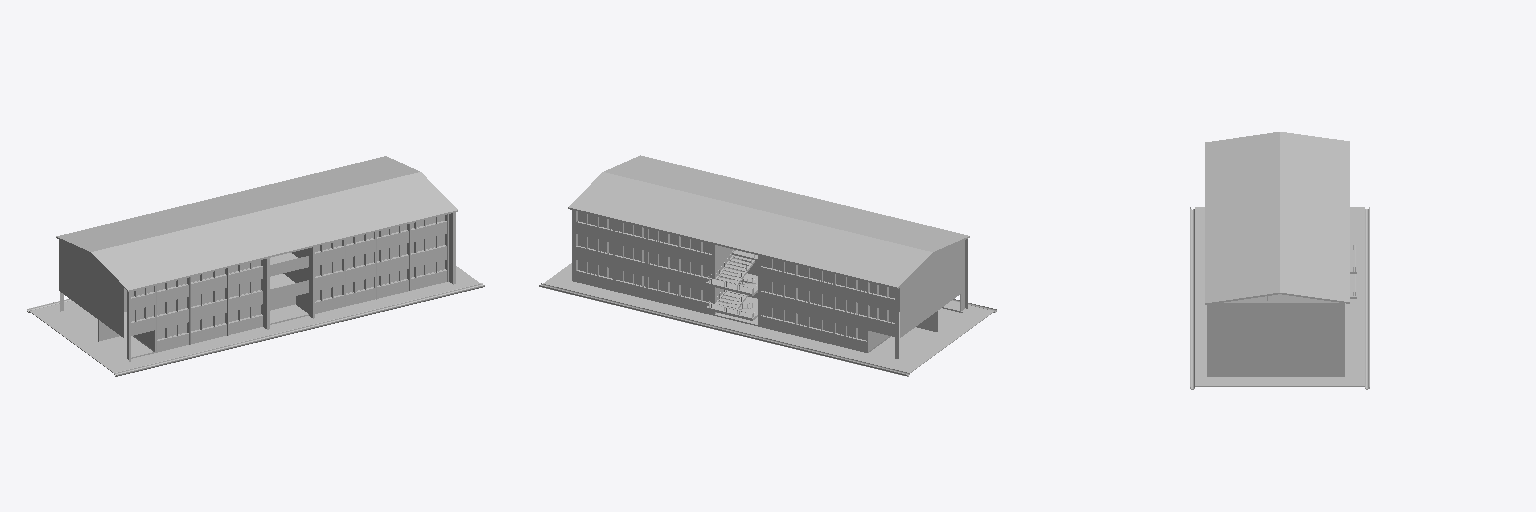
The model's file is campusBuilding.obj.
The picture shows the model from 3 angles: view 1: azimuth 30°, elevation 25°; view 2: azimuth 150°, elevation 25°; view 3: azimuth 270°, elevation 25°; orthographic projection.
Visible parts, largest first — view 1: Plane; view 2: Plane; view 3: Plane.
Part boxes in pixels (left/top/right/bottom): Plane: left=27, top=156, right=484, bottom=376; Plane: left=539, top=155, right=996, bottom=376; Plane: left=1190, top=132, right=1369, bottom=389.
Bounding box in the file's own units: 515 × 118 × 218.